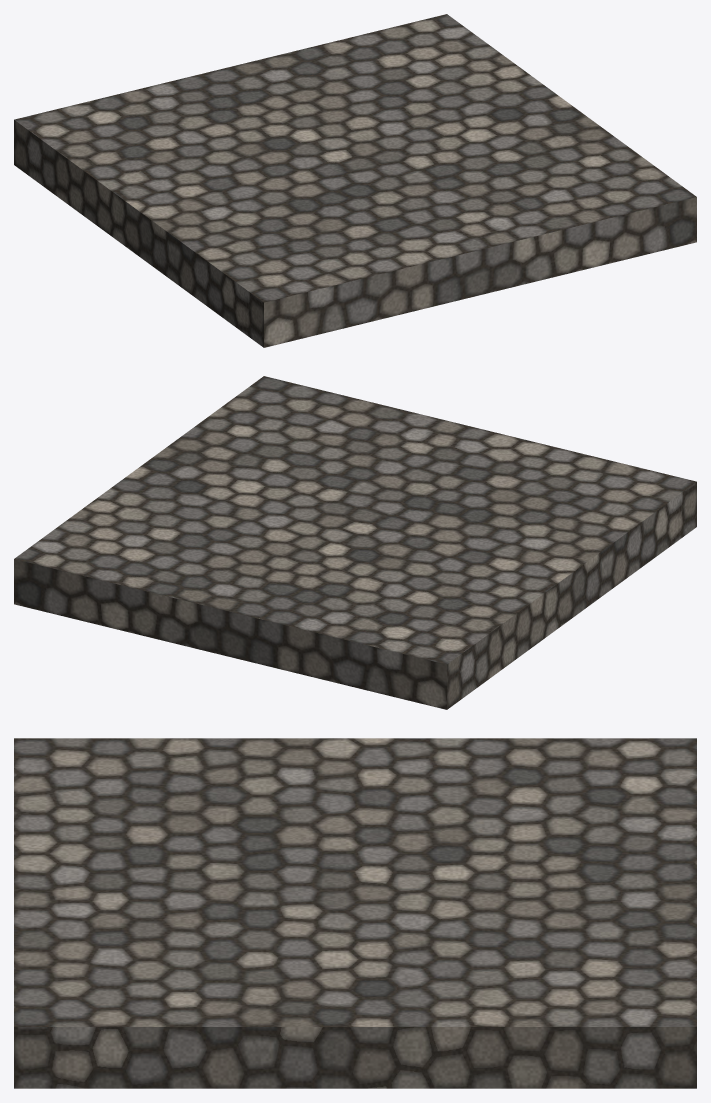
The model's file is road.glb.
3 views of the same model, one above another, from view 1: azimuth 30°, elevation 25°; view 2: azimuth 150°, elevation 25°; view 3: azimuth 270°, elevation 25° (orthographic). The views are drawn at different scales.
Parts seen in each view (by area): view 1: Road_cobble; view 2: Road_cobble; view 3: Road_cobble.
Part boxes in pixels (bbox=[...]): Road_cobble: bbox=[14, 14, 696, 347]; Road_cobble: bbox=[14, 376, 696, 709]; Road_cobble: bbox=[14, 738, 696, 1088].
Bounding box in the file's own units: 2 × 0.2 × 2.
Materials: 1 (1 with a texture image).
